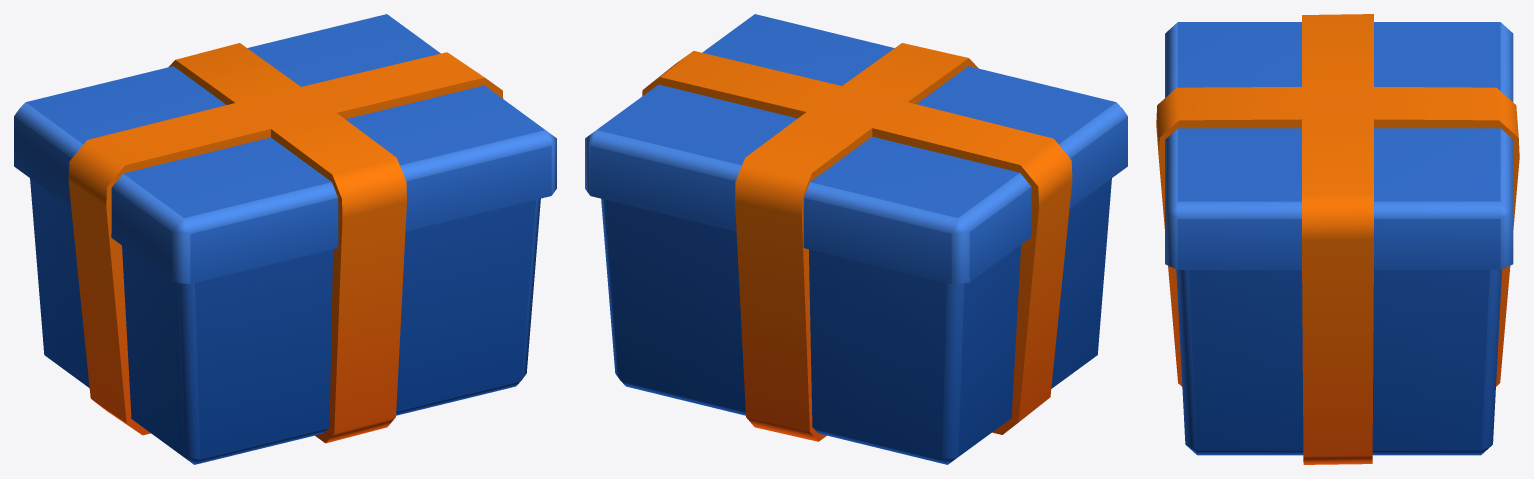
Rendered from giftbox_042.fbx.
3 renders of one model, left to right at view 1: azimuth 30°, elevation 25°; view 2: azimuth 150°, elevation 25°; view 3: azimuth 270°, elevation 25°, orthographic.
Parts seen in each view (by area): view 1: giftbox_042; view 2: giftbox_042; view 3: giftbox_042.
Part boxes in pixels (<box>): giftbox_042: <box>14,14,556,464</box>; giftbox_042: <box>585,14,1127,464</box>; giftbox_042: <box>1156,14,1519,464</box>.
Size of the model in its own units: 285 by 220 by 188.
